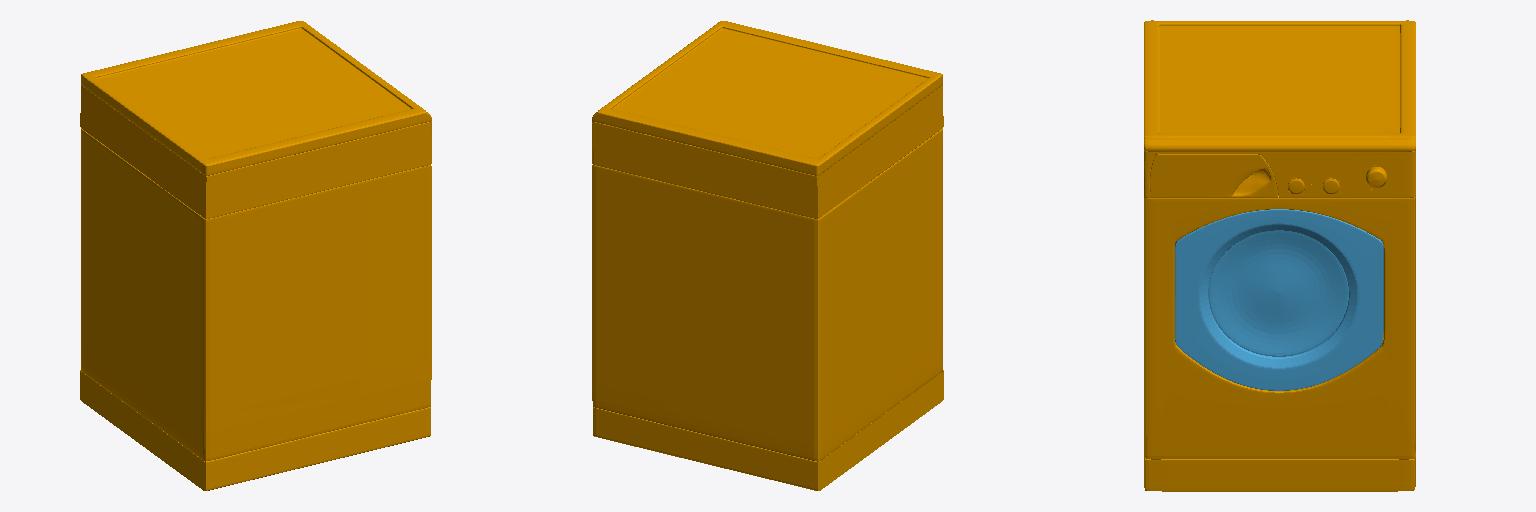
robot.urdf — predicted_washing_machine_left:
<?xml version="1.0"?>
<robot name="predicted_washing_machine_left">
  <link name="base_link">
    <visual>
      <geometry>
        <mesh filename="meshes/part_01.stl"/>
      </geometry>
    </visual>
    <visual>
      <geometry>
        <mesh filename="meshes/part_02.stl"/>
      </geometry>
    </visual>
  </link>
  <link name="link_manualv2_1778255704663_J0">
    <visual>
      <origin xyz="-0.3503 0.2688 -0.1308" rpy="0 0 0"/>
      <geometry>
        <mesh filename="meshes/part_00.stl"/>
      </geometry>
    </visual>
  </link>
  <joint name="joint_manualv2_1778255704663_J0" type="revolute">
    <parent link="base_link"/>
    <child link="link_manualv2_1778255704663_J0"/>
    <origin xyz="0.3503 -0.2688 0.1308" rpy="0 0 0"/>
    <axis xyz="-0.0108 -0.0038 -0.9999"/>
    <limit lower="0.0" upper="1.5708" effort="1000" velocity="1.0"/>
  </joint>
</robot>

--- Render facts (derived) ---
Views: 3 orthographic renders of the robot side by side, from view 1: azimuth 30°, elevation 25°; view 2: azimuth 150°, elevation 25°; view 3: azimuth 270°, elevation 25°.
Robot: predicted_washing_machine_left — 2 links, 1 joints (1 revolute); root link base_link; default pose: every joint at zero.
Links seen in each view (by area): view 1: base_link; view 2: base_link; view 3: base_link, link_manualv2_1778255704663_J0.
Link boxes in pixels (left/top/right/bottom): base_link: left=80, top=21, right=431, bottom=490; base_link: left=592, top=21, right=943, bottom=490; base_link: left=1144, top=20, right=1415, bottom=491; link_manualv2_1778255704663_J0: left=1175, top=209, right=1383, bottom=390.
Size in the robot's own frame: 0.7529 by 0.6987 by 1 metres.
Meshes: 3 distinct files referenced, 3 mesh visuals loaded (3 binary STL).
